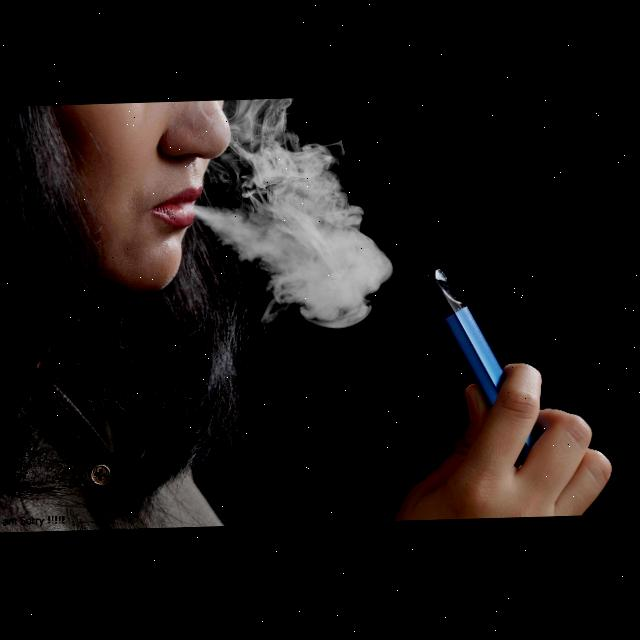vape: (423, 269, 507, 412)
